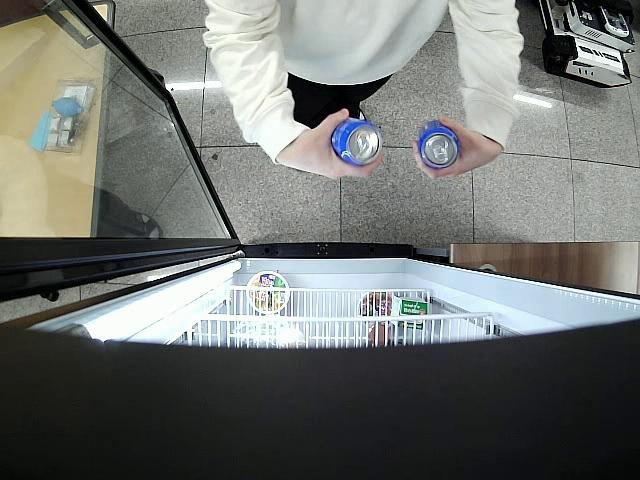00_hand: (281, 108, 385, 183), (411, 113, 501, 179)
13_pocariSweat: (329, 114, 384, 167), (417, 117, 461, 169)
